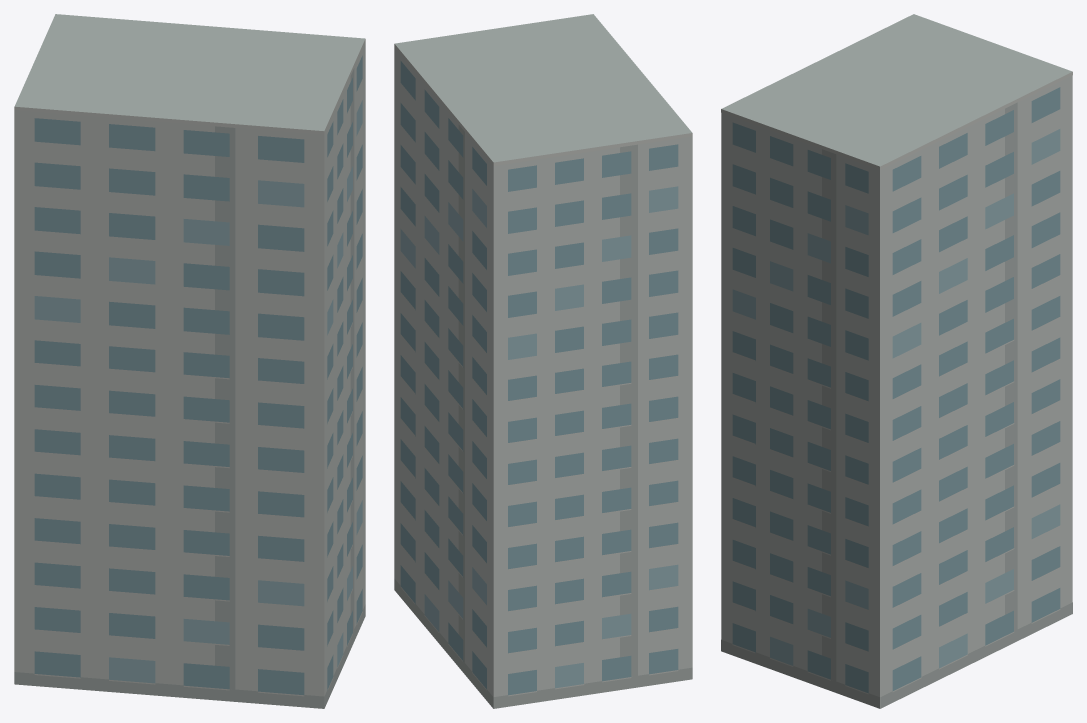
Rendered from residential-97969370-2d59-4a3a-87db-e27a5333acb0.glb.
3 renders of one model, left to right at view 1: azimuth 30°, elevation 25°; view 2: azimuth 150°, elevation 25°; view 3: azimuth 270°, elevation 25°, orthographic. The views are drawn at different scales.
Parts seen in each view (by area): view 1: residential-97969370-2d59-4a3a-87db-e27a5333acb0.tmp; view 2: residential-97969370-2d59-4a3a-87db-e27a5333acb0.tmp; view 3: residential-97969370-2d59-4a3a-87db-e27a5333acb0.tmp.
Boxes of the visible parts, x1,y1,x2,y2 form: residential-97969370-2d59-4a3a-87db-e27a5333acb0.tmp: (14,14,365,708); residential-97969370-2d59-4a3a-87db-e27a5333acb0.tmp: (394,14,692,708); residential-97969370-2d59-4a3a-87db-e27a5333acb0.tmp: (721,14,1072,708).
Bounding box in the file's own units: 22.34 × 37 × 21.75.
